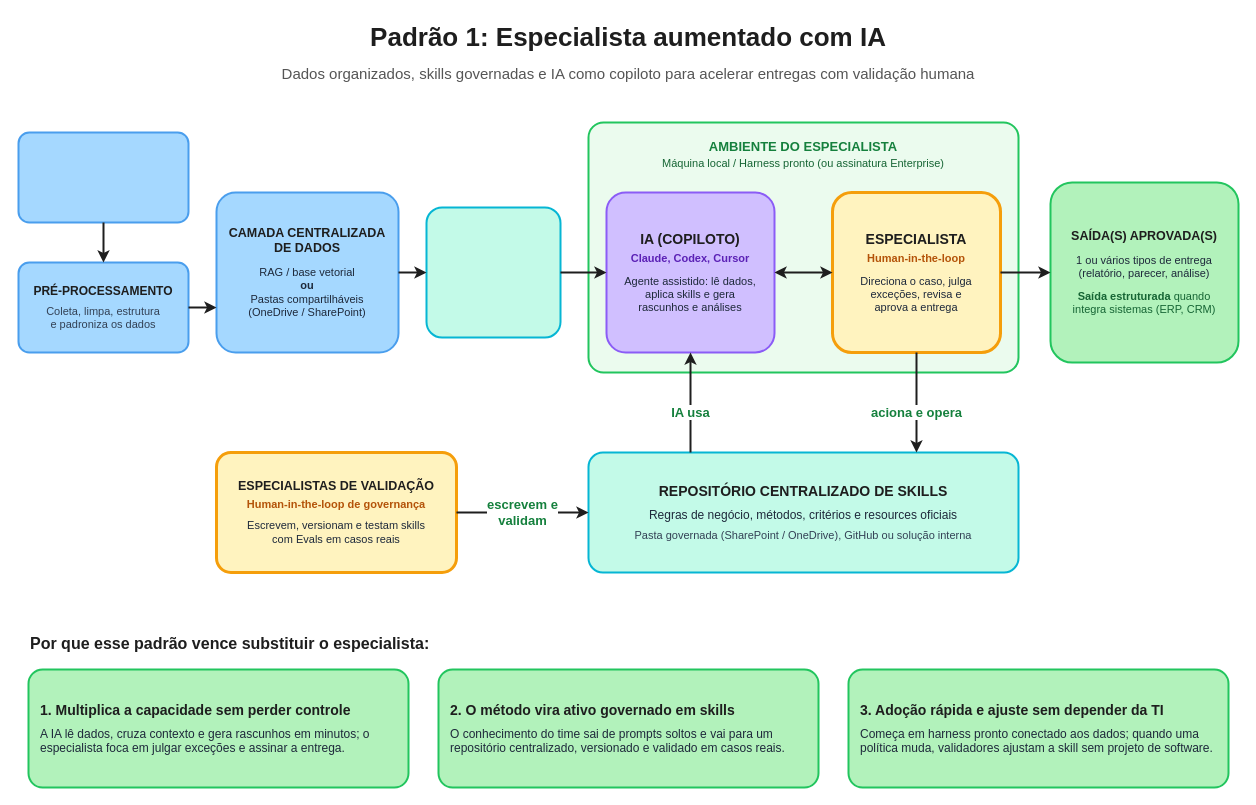
Image size: 1256x805. Some labels were removed from this diagram. Here are the shapes that lost their labels. From the top down, the centre of each, then its label:
At point 103,177: "FONTES BRUTAS ERPs, planilhas, PDFs, e-mails e sistemas".
At point 493,272: "MCP MCP interno (RAG) ou MCP nativo / Tools (pastas)".
